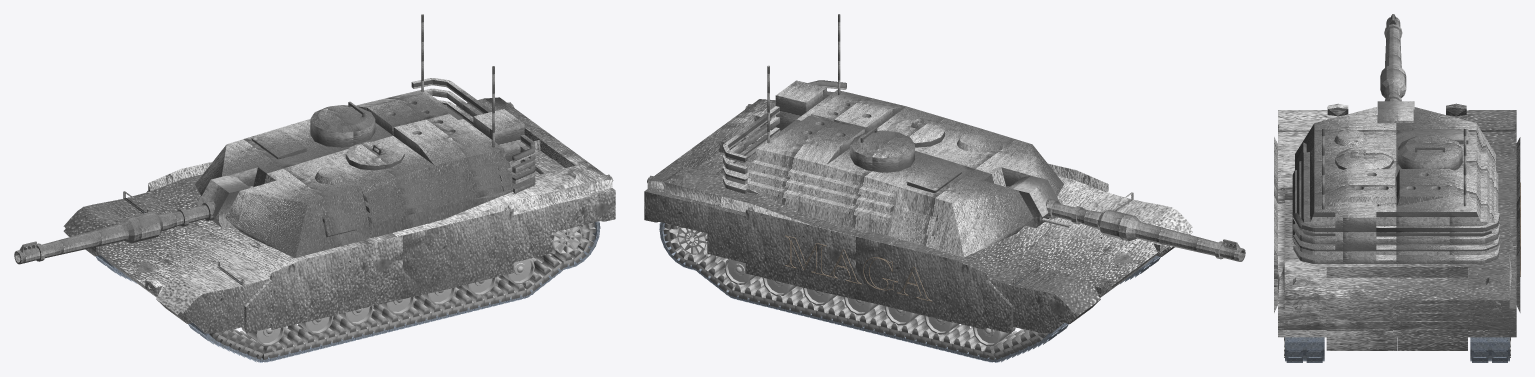
Rendered from M1abrams.FBX.
3 views of the same model, side by side, from view 1: azimuth 30°, elevation 25°; view 2: azimuth 150°, elevation 25°; view 3: azimuth 270°, elevation 25° (orthographic).
Parts seen in each view (by area): view 1: Box001, Box045, Cylinder002, Circle001, Cylinder001, Tube002; view 2: Box001, Box045, Cylinder002, Circle001, Text002, Cylinder001, Tube002; view 3: Box045, Box001, Cylinder002, Circle001.
Part boxes in pixels (x1,y1,x2,y2): Box001: (63,97,615,333); Box045: (195,14,535,257); Cylinder002: (14,175,250,264); Circle001: (95,211,600,362); Cylinder001: (552,226,582,253); Tube002: (503,258,534,284); Box001: (644,99,1192,333); Box045: (723,14,1063,257); Cylinder002: (1009,176,1245,261); Circle001: (659,222,1160,362); Text002: (785,235,932,301); Cylinder001: (677,227,707,254); Tube002: (724,259,755,284); Box045: (1292,107,1499,263); Box001: (1274,103,1520,350); Cylinder002: (1377,14,1414,122); Circle001: (1285,337,1509,362).
Size of the model in its own units: 532 by 208 by 208.
